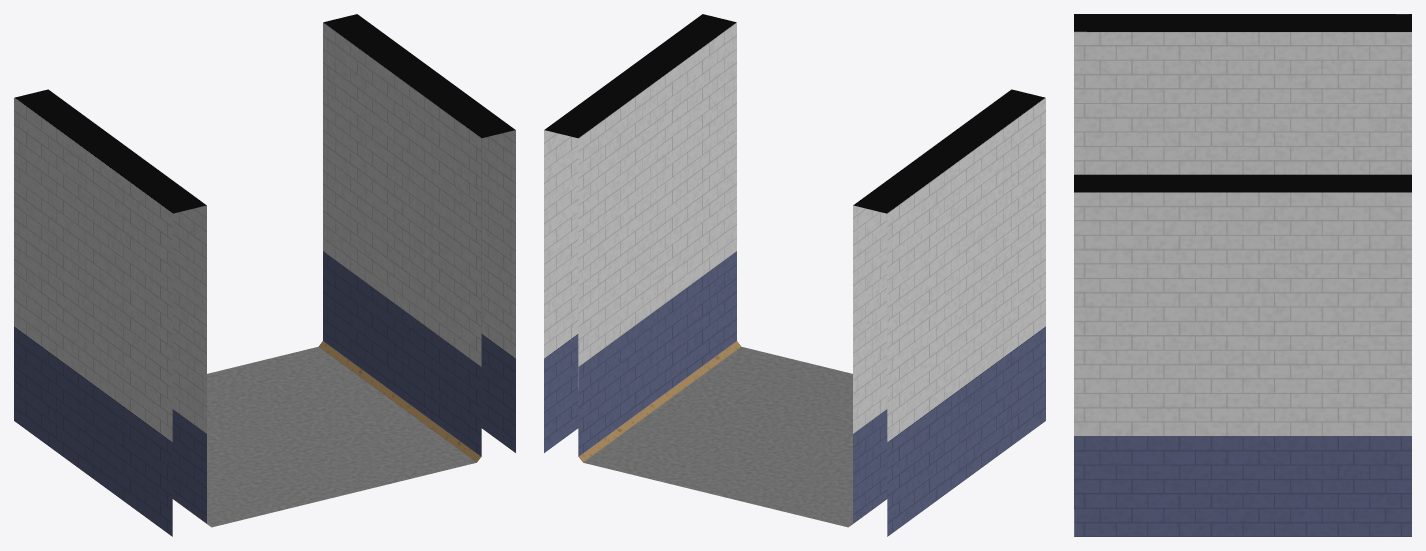
File: hallway.glb
3 views of the same model, side by side, from view 1: azimuth 30°, elevation 25°; view 2: azimuth 150°, elevation 25°; view 3: azimuth 270°, elevation 25° (orthographic). The views are drawn at different scales.
Parts seen in each view (by area): view 1: basic_hallway.001; view 2: basic_hallway.001; view 3: basic_hallway.001.
Boxes of the visible parts, x1=… form: basic_hallway.001: x1=14, y1=14, x2=515, y2=536; basic_hallway.001: x1=544, y1=14, x2=1045, y2=536; basic_hallway.001: x1=1074, y1=14, x2=1411, y2=536.
Size of the model in its own units: 10 by 9 by 8.
1 material, 1 textured.
